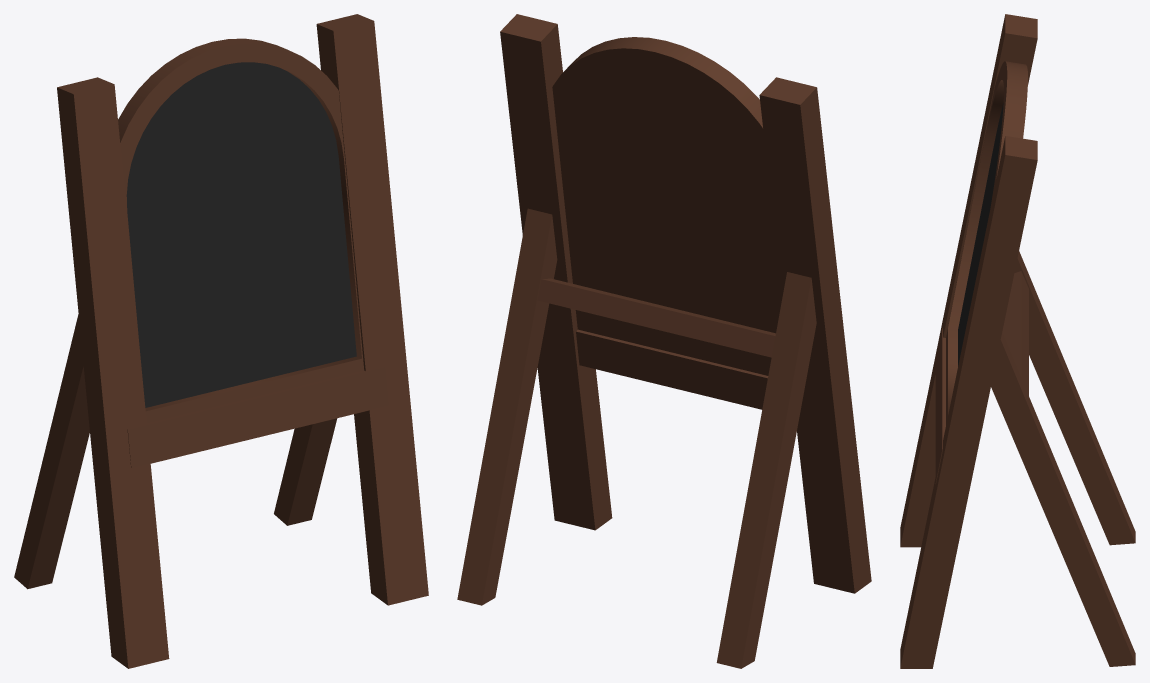
File: BillBoard.fbx
The picture shows the model from 3 angles, left to right: view 1: azimuth 30°, elevation 25°; view 2: azimuth 150°, elevation 25°; view 3: azimuth 270°, elevation 25°; orthographic projection. The views are drawn at different scales.
Parts seen in each view (by area): view 1: BillBoard; view 2: BillBoard; view 3: BillBoard.
Part boxes in pixels (x1=…): BillBoard: x1=14, y1=14, x2=428, y2=668; BillBoard: x1=457, y1=14, x2=871, y2=668; BillBoard: x1=900, y1=14, x2=1135, y2=668.
Size of the model in its own units: 2.09 by 1.48 by 3.64.
